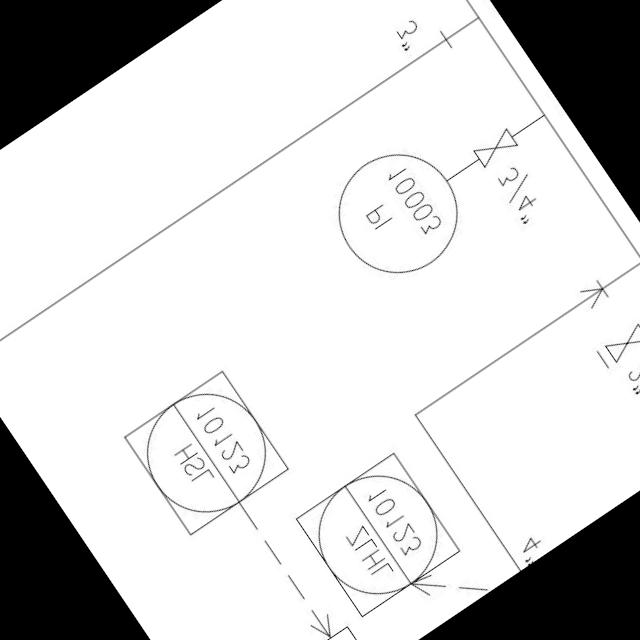GV: (460, 117, 530, 181), (598, 317, 640, 368)
